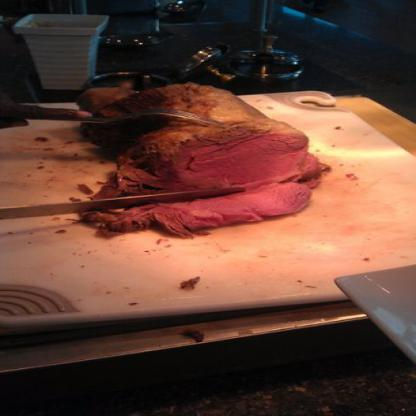beef: (82, 80, 318, 228)
